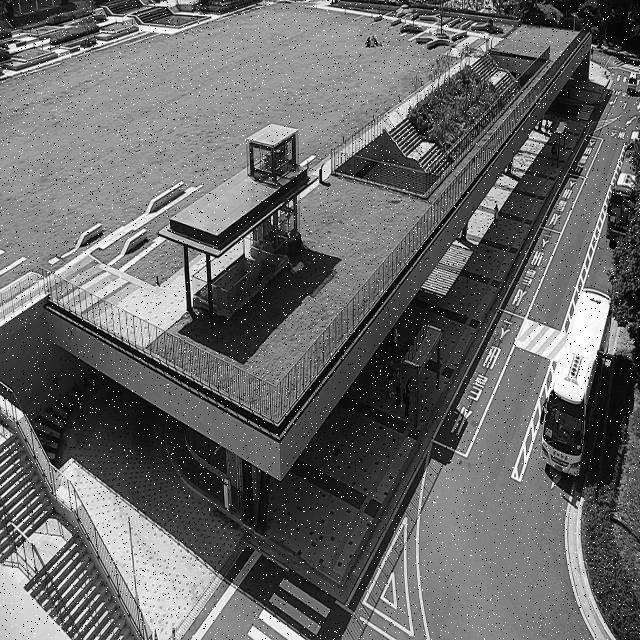queue: (417, 331, 441, 433)
